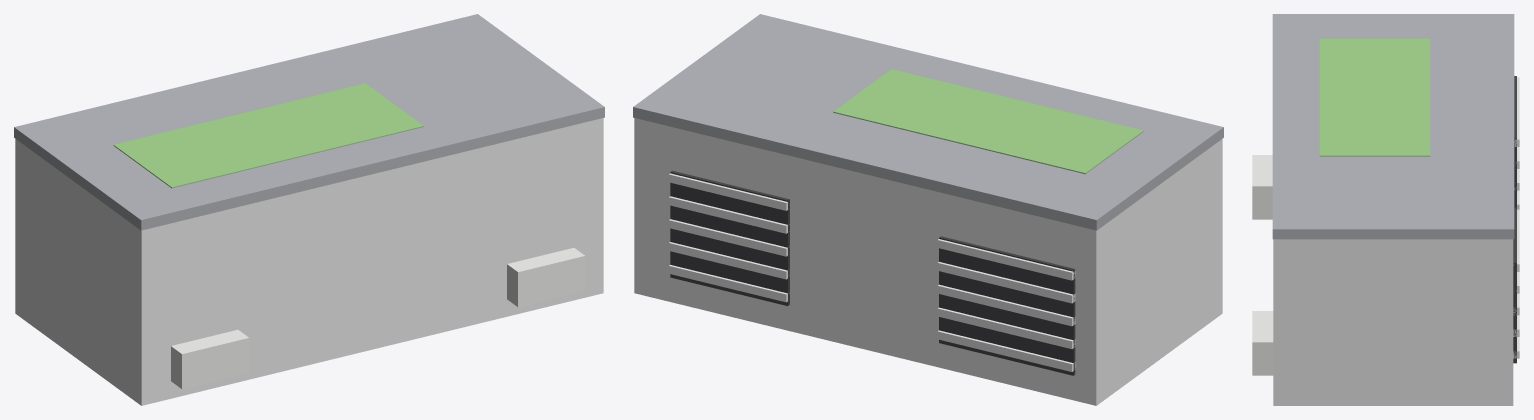
File: sen66.glb
The picture shows the model from 3 angles, left to right: view 1: azimuth 30°, elevation 25°; view 2: azimuth 150°, elevation 25°; view 3: azimuth 270°, elevation 25°; orthographic projection. The views are drawn at different scales.
Visible parts, largest first — view 1: sen66_1_sen_white, sen66_2_alu_dark, sen66_3_sen_green, sen66_17_white, sen66_16_white; view 2: sen66_1_sen_white, sen66_2_alu_dark, sen66_3_sen_green, sen66_4_plastic_black, sen66_10_plastic_black, sen66_8_sen_white, sen66_7_sen_white, sen66_5_sen_white, sen66_6_sen_white, sen66_9_sen_white, sen66_13_sen_white, sen66_14_sen_white (+3 smaller); view 3: sen66_2_alu_dark, sen66_1_sen_white, sen66_3_sen_green, sen66_17_white, sen66_16_white, sen66_10_plastic_black, sen66_4_plastic_black.
Part boxes in pixels (x1,y1,x2,y2): sen66_1_sen_white: (15, 118, 603, 405); sen66_2_alu_dark: (14, 14, 604, 230); sen66_3_sen_green: (113, 83, 423, 188); sen66_17_white: (507, 248, 585, 307); sen66_16_white: (171, 329, 249, 389); sen66_1_sen_white: (634, 118, 1222, 405); sen66_2_alu_dark: (633, 14, 1223, 230); sen66_3_sen_green: (833, 69, 1143, 174); sen66_4_plastic_black: (939, 236, 1075, 375); sen66_10_plastic_black: (670, 170, 789, 305); sen66_8_sen_white: (937, 262, 1075, 303); sen66_7_sen_white: (937, 284, 1075, 326); sen66_5_sen_white: (937, 330, 1075, 371); sen66_6_sen_white: (937, 307, 1075, 348); sen66_9_sen_white: (937, 239, 1075, 280); sen66_13_sen_white: (668, 219, 789, 256); sen66_14_sen_white: (668, 196, 789, 233); sen66_2_alu_dark: (1272, 14, 1514, 239); sen66_1_sen_white: (1273, 239, 1513, 405); sen66_3_sen_green: (1319, 38, 1430, 156); sen66_17_white: (1252, 311, 1273, 375); sen66_16_white: (1252, 155, 1272, 219); sen66_10_plastic_black: (1513, 208, 1516, 363); sen66_4_plastic_black: (1514, 76, 1516, 208).
Bounding box in the file's own units: 55.2 × 21.33 × 29.
